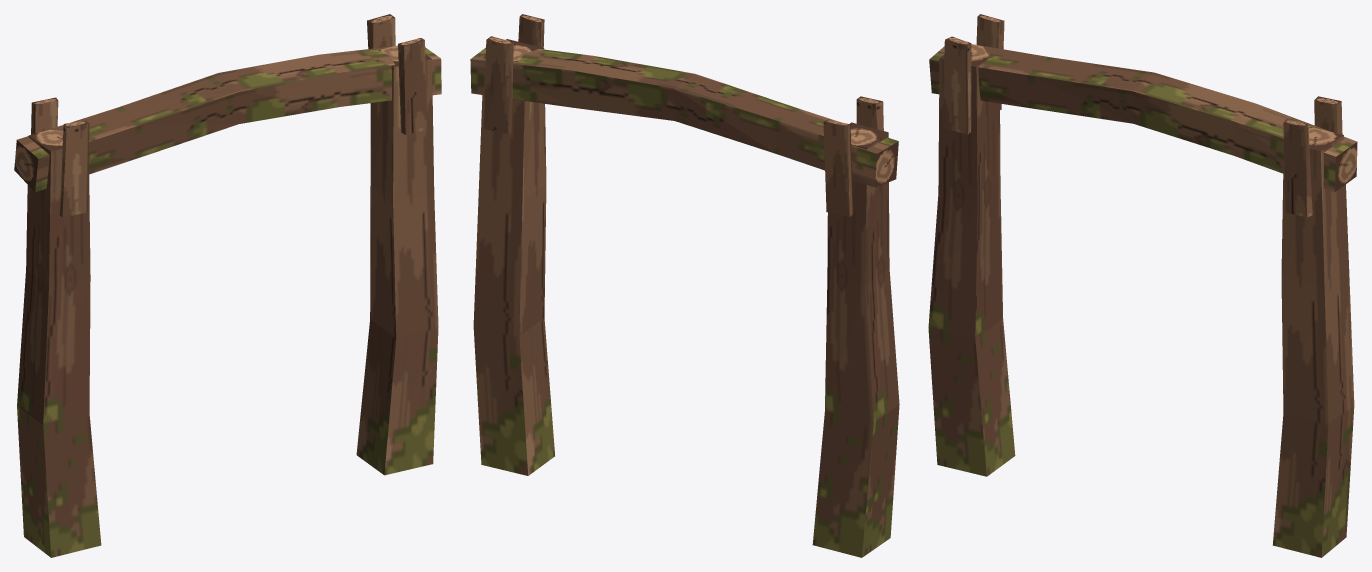
Rendered from SM_ST06_GateCrooked.fbx.
3 views of the same model, side by side, from view 1: azimuth 30°, elevation 25°; view 2: azimuth 150°, elevation 25°; view 3: azimuth 330°, elevation 25° (orthographic).
Visible parts, largest first — view 1: ST06_Gate; view 2: ST06_Gate; view 3: ST06_Gate.
Boxes of the visible parts, x1=… form: ST06_Gate: x1=14, y1=14, x2=441, y2=557; ST06_Gate: x1=470, y1=14, x2=899, y2=557; ST06_Gate: x1=928, y1=14, x2=1357, y2=557.
Bounding box in the file's own units: 2.84 × 2.89 × 0.4426.
